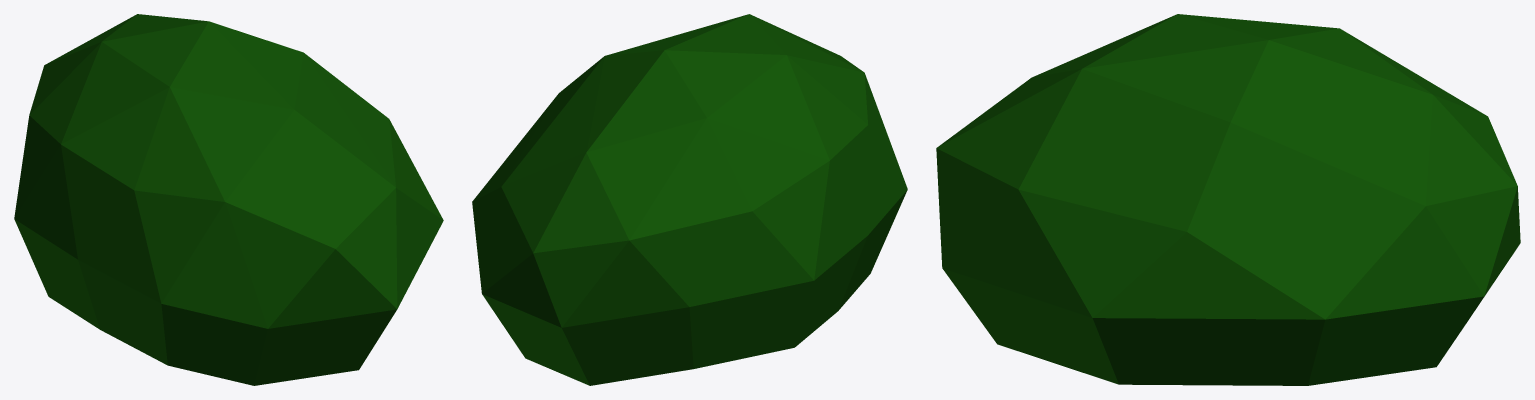
File: bush.gltf
3 renders of one model, left to right at view 1: azimuth 30°, elevation 25°; view 2: azimuth 150°, elevation 25°; view 3: azimuth 270°, elevation 25°, orthographic. The views are drawn at different scales.
Parts seen in each view (by area): view 1: bush_1_Icosphere.002; view 2: bush_1_Icosphere.002; view 3: bush_1_Icosphere.002.
Part boxes in pixels (<box>): bush_1_Icosphere.002: <box>14,14,443,385</box>; bush_1_Icosphere.002: <box>472,14,907,385</box>; bush_1_Icosphere.002: <box>936,14,1520,385</box>.
Bounding box in the file's own units: 2.02 × 1.52 × 2.74.
